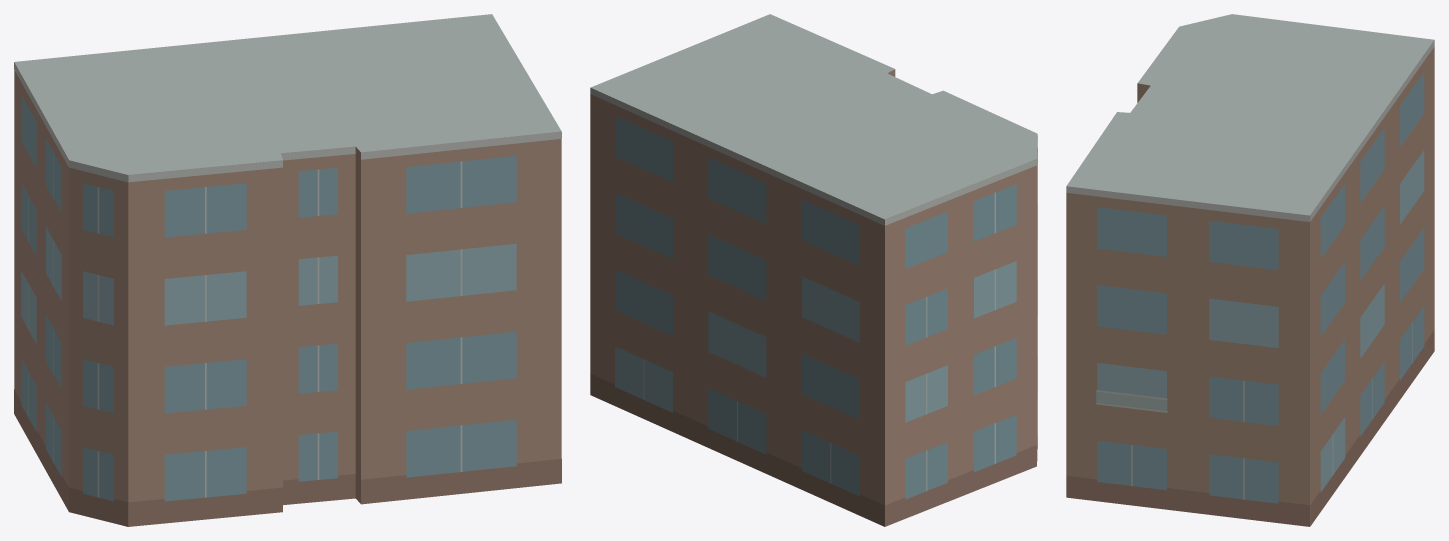
File: survey-upis-32944870.glb
The picture shows the model from 3 angles, left to right: view 1: azimuth 30°, elevation 25°; view 2: azimuth 150°, elevation 25°; view 3: azimuth 270°, elevation 25°; orthographic projection. The views are drawn at different scales.
Parts seen in each view (by area): view 1: survey-upis-32944870.tmp; view 2: survey-upis-32944870.tmp; view 3: survey-upis-32944870.tmp.
Boxes of the visible parts, x1=… form: survey-upis-32944870.tmp: x1=14, y1=14, x2=561, y2=526; survey-upis-32944870.tmp: x1=590, y1=14, x2=1037, y2=526; survey-upis-32944870.tmp: x1=1066, y1=14, x2=1434, y2=526.
Bounding box in the file's own units: 16.26 × 11.7 × 12.56.
